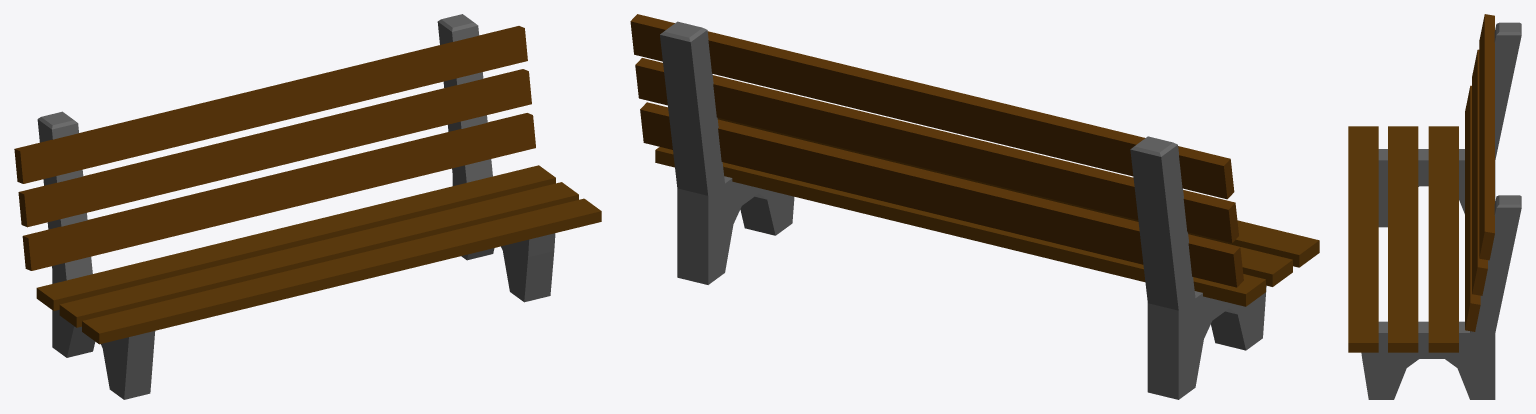
Rendered from banco.fbx.
3 renders of one model, left to right at view 1: azimuth 30°, elevation 25°; view 2: azimuth 150°, elevation 25°; view 3: azimuth 270°, elevation 25°, orthographic. The views are drawn at different scales.
Visible parts, largest first — view 1: Cube.002, Cube.001, Cube; view 2: Cube.002, Cube, Cube.001; view 3: Cube.001, Cube, Cube.002.
Part boxes in pixels (x1,y1,x2,y2): Cube.002: (14,26,535,270); Cube.001: (36,165,601,344); Cube: (37,14,555,399); Cube.002: (630,14,1243,287); Cube: (660,21,1266,399); Cube.001: (655,118,1319,306); Cube.001: (1348,126,1458,352); Cube: (1361,22,1521,399); Cube.002: (1465,14,1494,331).
Bounding box in the file's own units: 1123 × 468 × 378.
